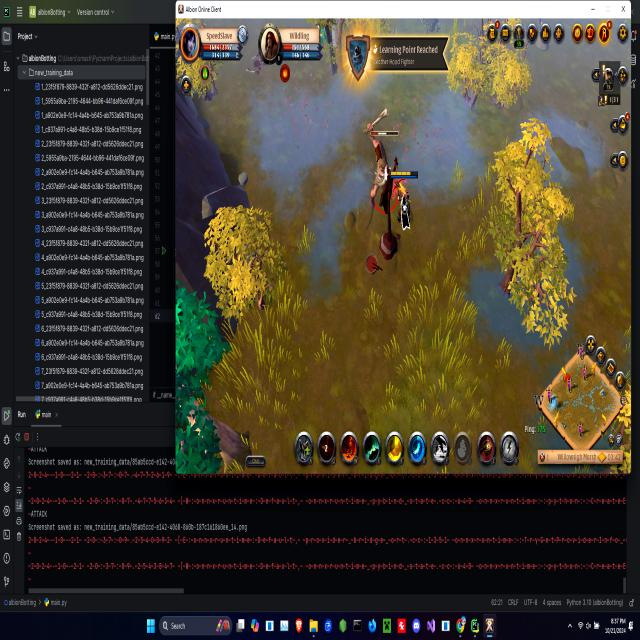hide: (315, 18, 330, 52)
ore: (361, 117, 404, 214), (418, 16, 447, 37)
red: (386, 167, 422, 233)
wisp caged: (175, 282, 253, 472)
